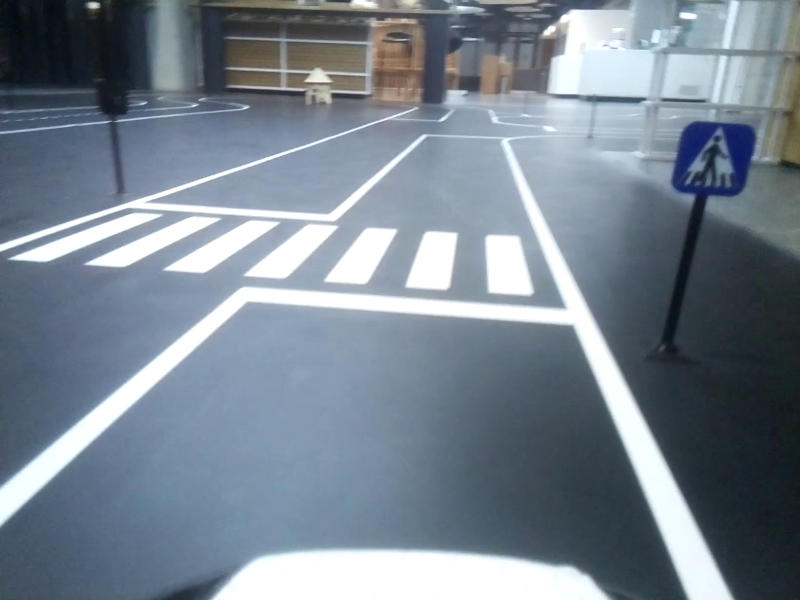pedestrian: (676, 121, 752, 198)
